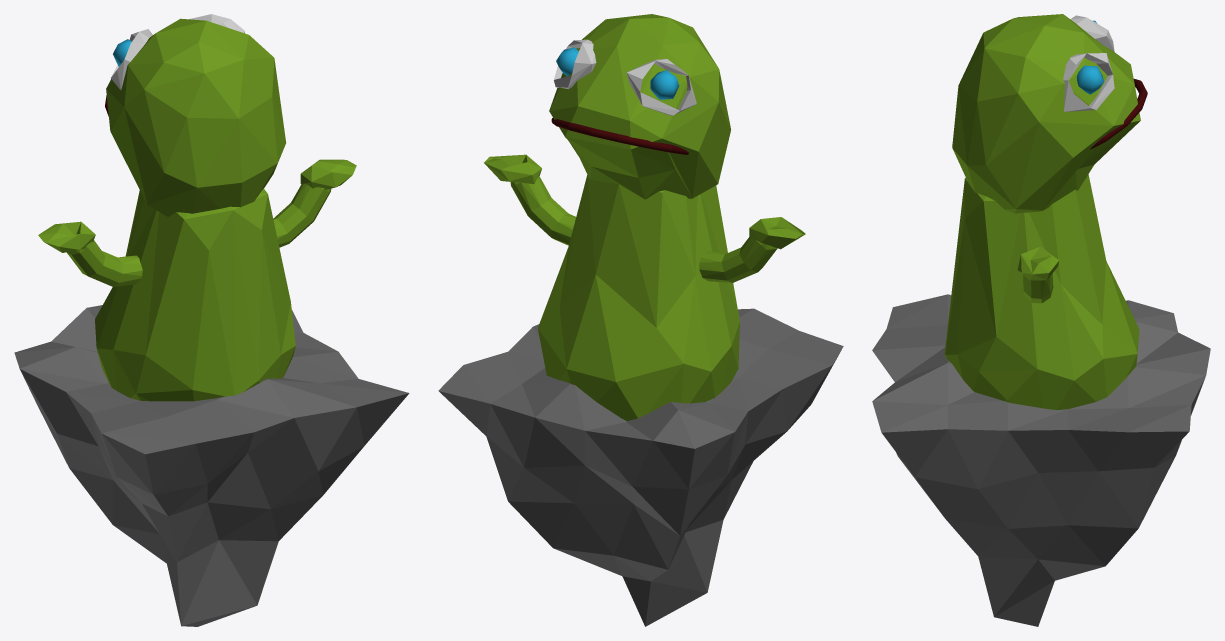
Rendered from Frosch2.fbx.
3 renders of one model, left to right at view 1: azimuth 30°, elevation 25°; view 2: azimuth 150°, elevation 25°; view 3: azimuth 270°, elevation 25°, orthographic.
Parts seen in each view (by area): view 1: Pyramide, Körper, Kopf, Arm, Hand, Lid; view 2: Pyramide, Körper, Kopf, Arm, Lid, Hand, Mund, Pupille; view 3: Pyramide, Körper, Kopf, Lid, Hand, Arm, Pupille, Mund.
Boxes of the visible parts, x1=… form: Pyramide: x1=14, y1=305, x2=409, y2=626; Körper: x1=95, y1=188, x2=295, y2=401; Kopf: x1=106, y1=18, x2=286, y2=216; Arm: x1=66, y1=183, x2=331, y2=286; Hand: x1=38, y1=159, x2=356, y2=252; Lid: x1=111, y1=14, x2=244, y2=89; Pyramide: x1=438, y1=308, x2=843, y2=626; Körper: x1=538, y1=175, x2=739, y2=420; Kopf: x1=549, y1=14, x2=730, y2=199; Arm: x1=510, y1=176, x2=777, y2=282; Lid: x1=554, y1=39, x2=696, y2=115; Hand: x1=484, y1=154, x2=805, y2=249; Mund: x1=551, y1=118, x2=688, y2=154; Pupille: x1=556, y1=47, x2=679, y2=99; Pyramide: x1=872, y1=294, x2=1210, y2=626; Körper: x1=944, y1=174, x2=1139, y2=410; Kopf: x1=952, y1=14, x2=1140, y2=213; Lid: x1=1063, y1=15, x2=1114, y2=111; Hand: x1=1017, y1=246, x2=1059, y2=280; Arm: x1=1022, y1=273, x2=1053, y2=303; Pupille: x1=1077, y1=20, x2=1103, y2=94; Mund: x1=1090, y1=79, x2=1147, y2=149.
Size of the model in its own units: 243 by 446 by 225.
